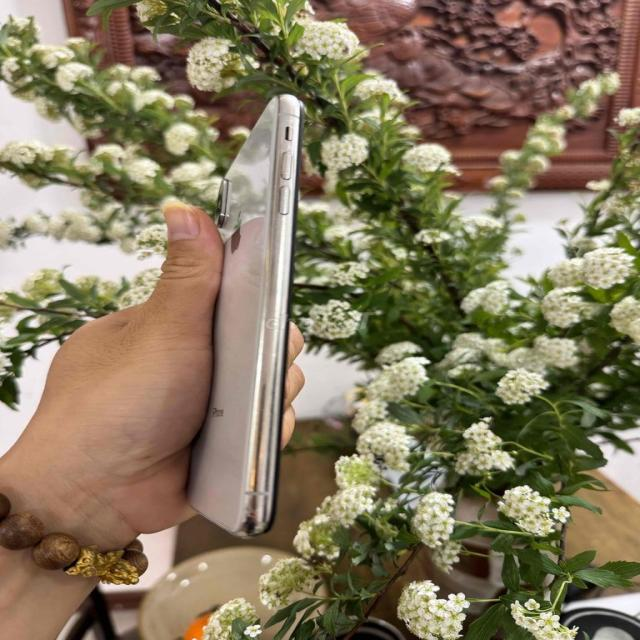gen_x_xs: (189, 91, 312, 541)
